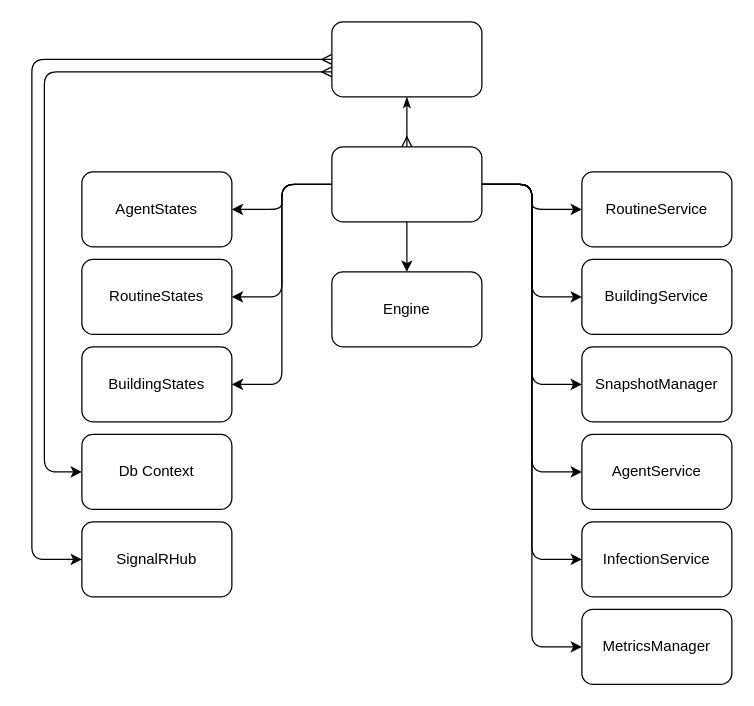
This 754x706 diagram has some shape labels left out. Here are the shapes that lost their labels. From the top down, the box of each, then its label:
(331, 21, 482, 97): Simulation Manger
(331, 146, 482, 222): Simulation Context
